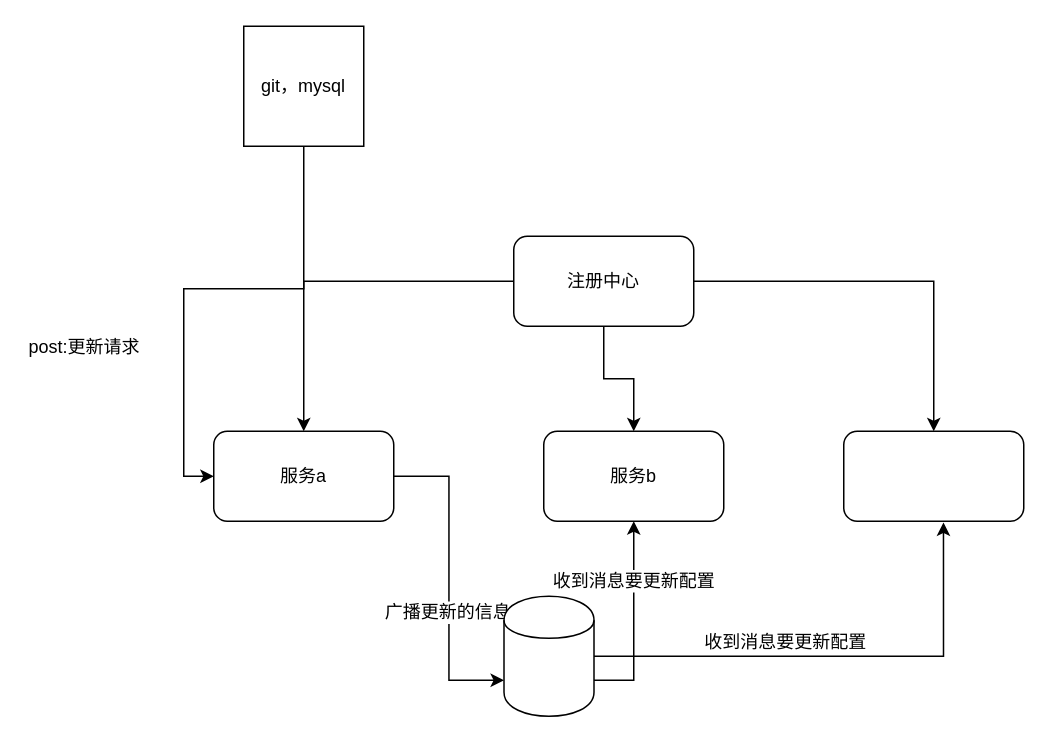
The diagram is 1050 pixels wide and 743 high, and some of its shapes have lost their labels. Here are the shapes that lost their labels. From the top down, the box of each, then its label:
(842, 430, 1024, 521): 服务c
(502, 595, 594, 716): 消息中间件（rabbitmq）
